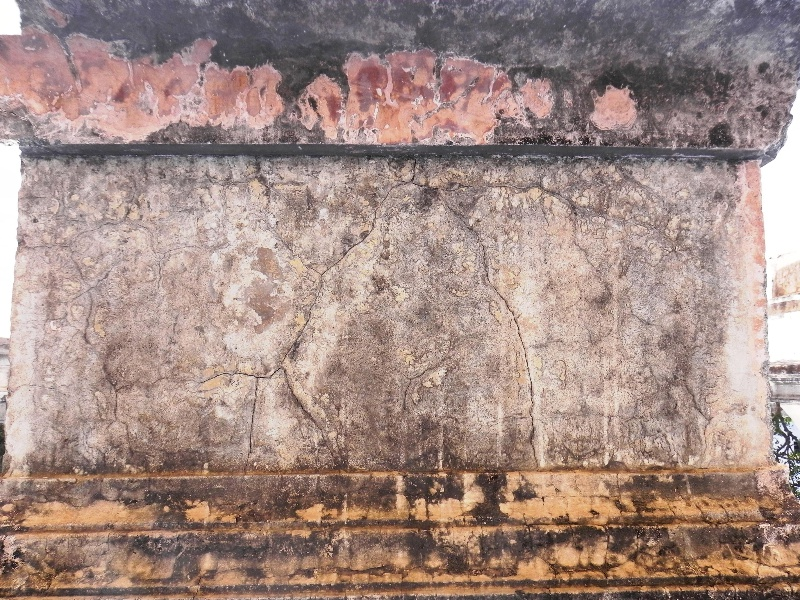Crack: (499, 286, 539, 439), (277, 290, 313, 369)
